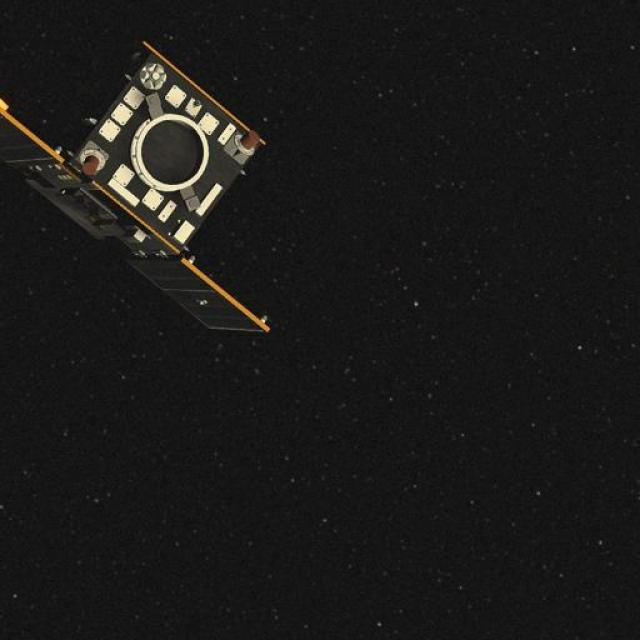proba_2: (0, 10, 352, 357)
